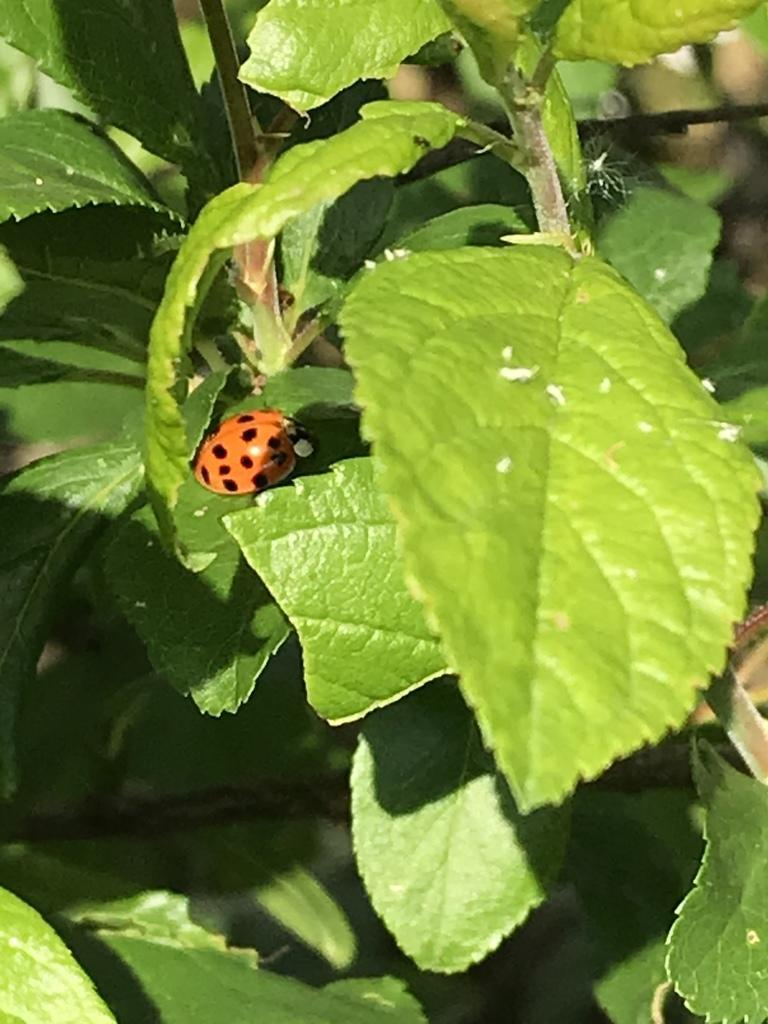ladybug: (192, 405, 324, 498)
